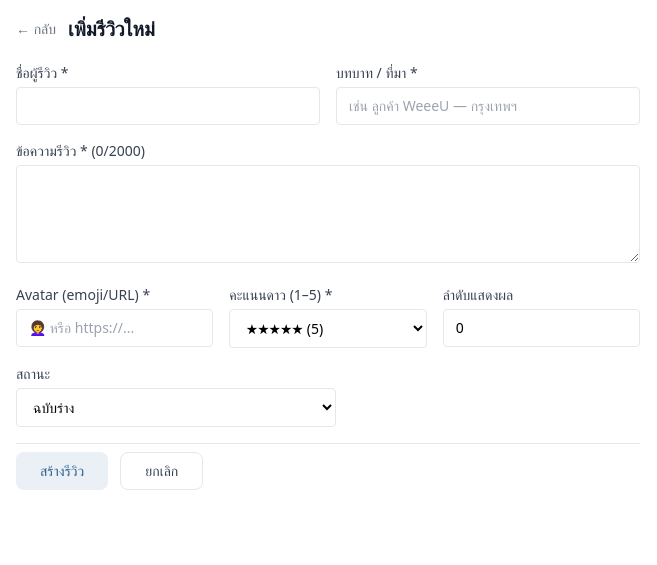
Test: TestimonialForm — create › validates required fields before submit
Click the button "สร้างรีวิว".
click(62, 471)  # box [16,452,108,490]
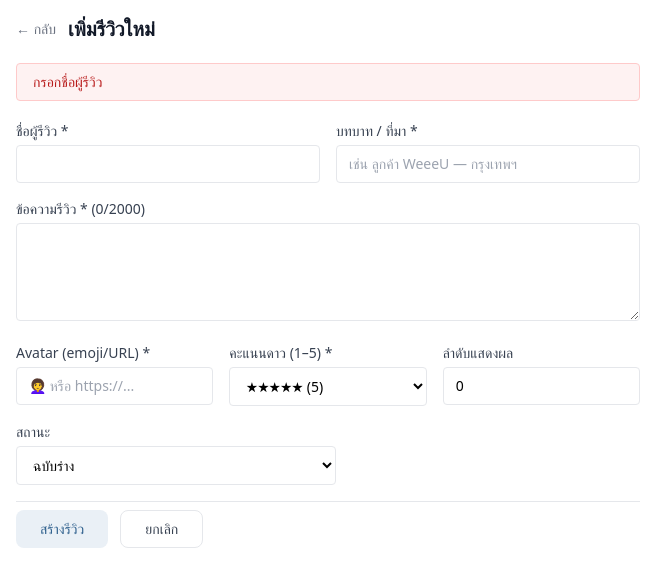
Result: the text "กรอกชื่อผู้รีวิว" is shown at [16,63,640,101]
